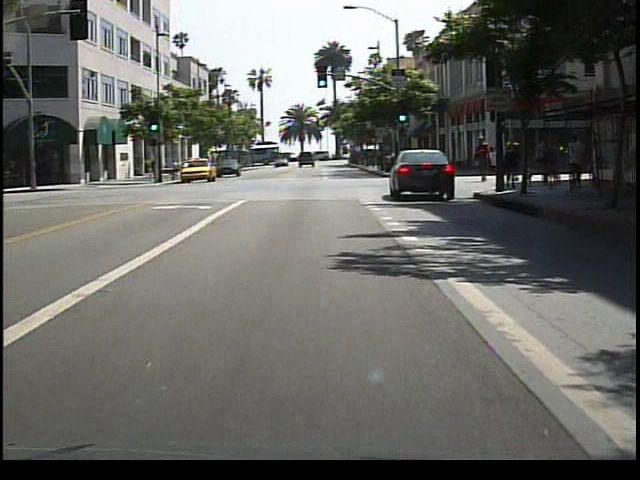person: (472, 133, 498, 187)
